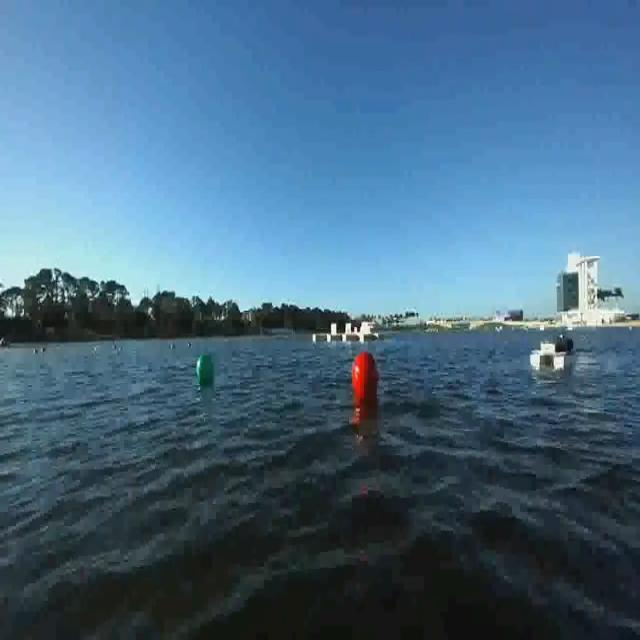green-buoy: (198, 351, 217, 385)
red-buoy: (350, 349, 378, 400)
